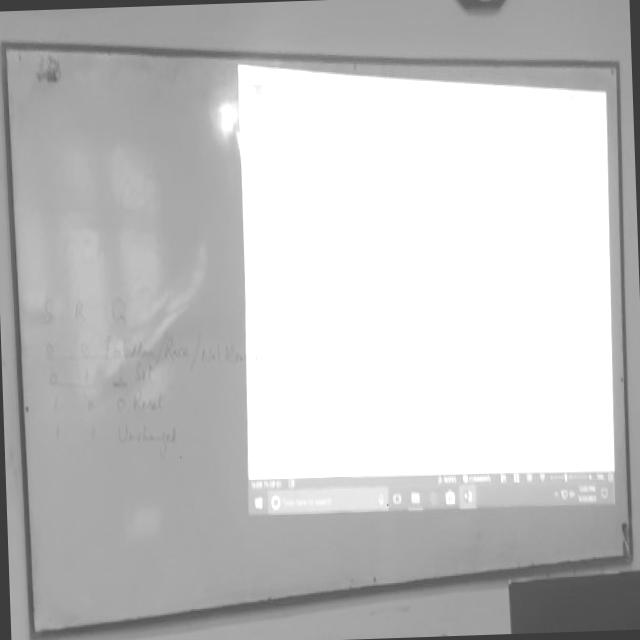Slide: (234, 65, 613, 519)
White-board: (3, 45, 633, 640)
